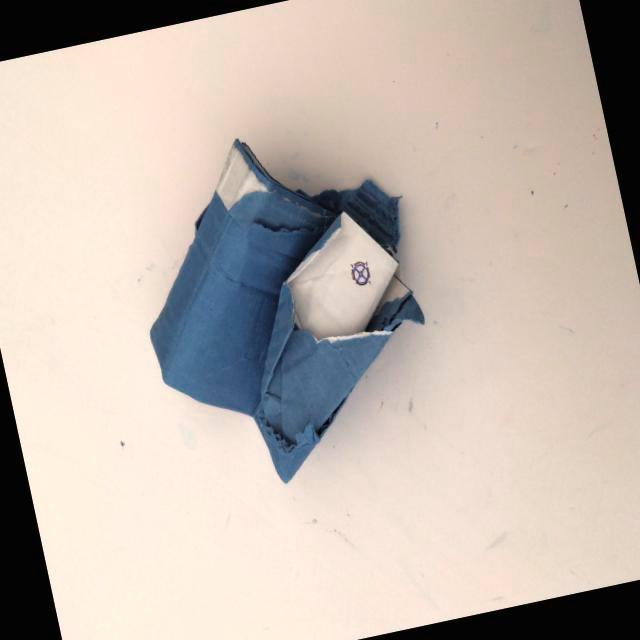cardboard: (95, 92, 468, 520)
